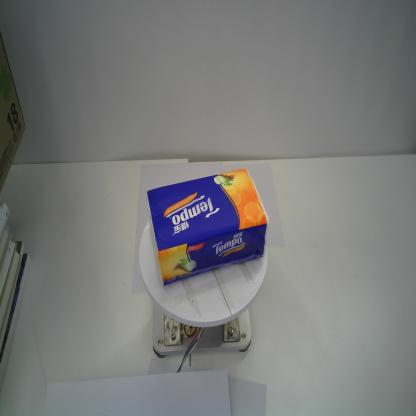Tissue: (145, 167, 272, 288)
